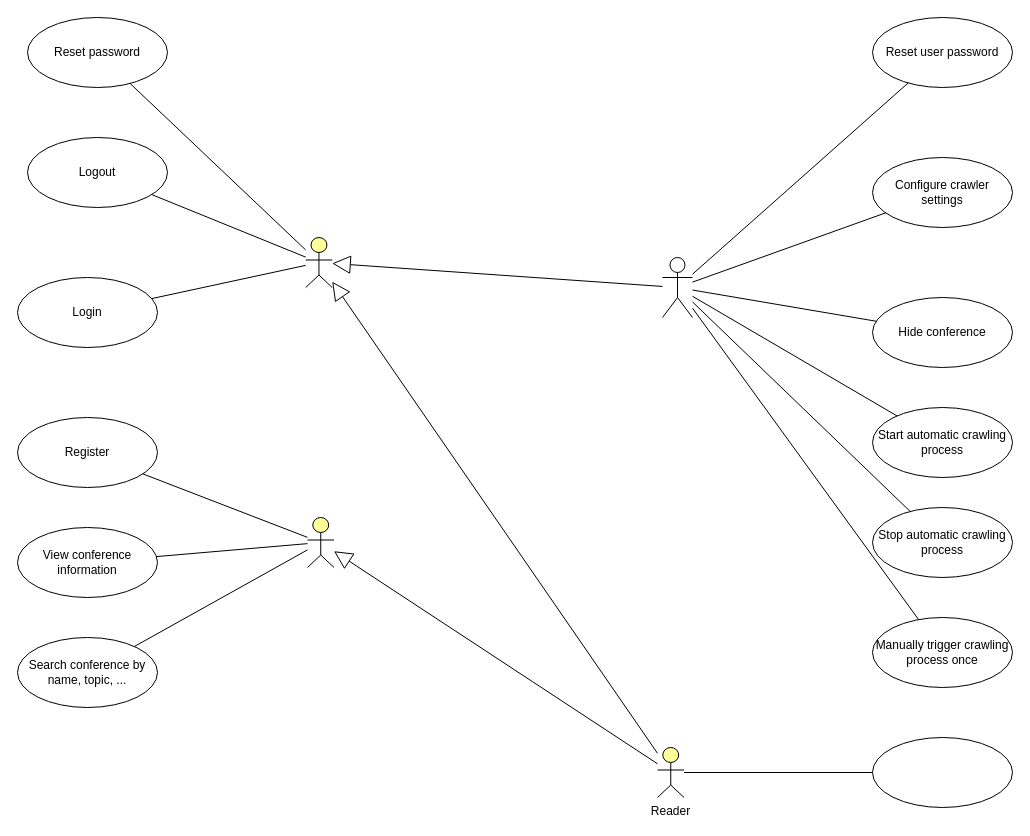
Image size: 1030x836. Some labels were removed from this diagram. Each missing label, with the centre of its shape:
"Admin" goes at point 677,287.
"Like/Follow conference" goes at point 942,772.
"User" goes at point 318,262.
"Visitor" goes at point 320,542.
